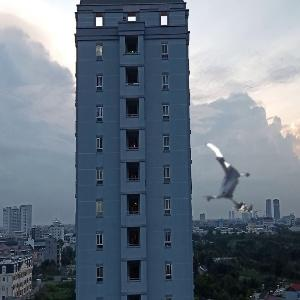drone: (189, 144, 257, 212)
